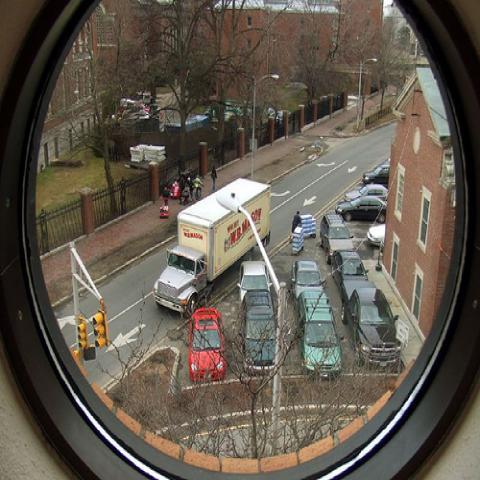car: (296, 290, 342, 381), (239, 287, 278, 374), (189, 306, 227, 382), (320, 214, 356, 263), (236, 261, 273, 308), (289, 261, 324, 310), (335, 192, 387, 224), (330, 248, 370, 288), (344, 184, 388, 202), (363, 164, 389, 186), (367, 222, 386, 244)
truck: (150, 176, 273, 314), (335, 274, 402, 366)
